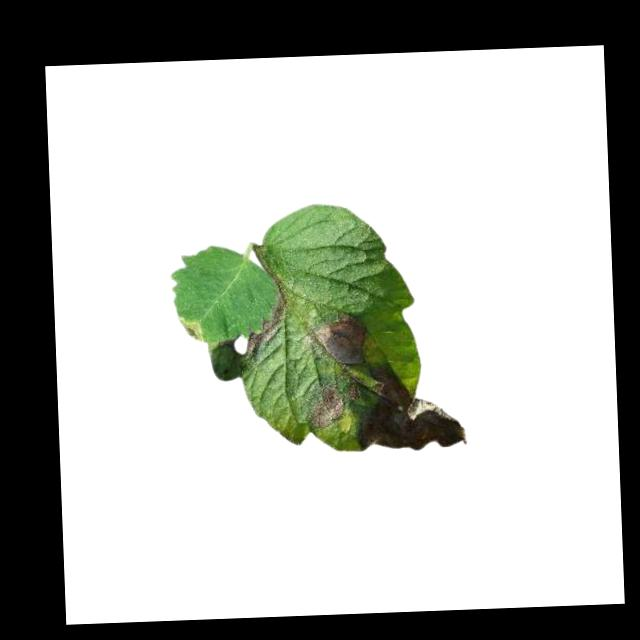Late_blight: (355, 359, 467, 455), (308, 314, 368, 371), (243, 274, 286, 352), (304, 381, 345, 432), (177, 317, 205, 341)
